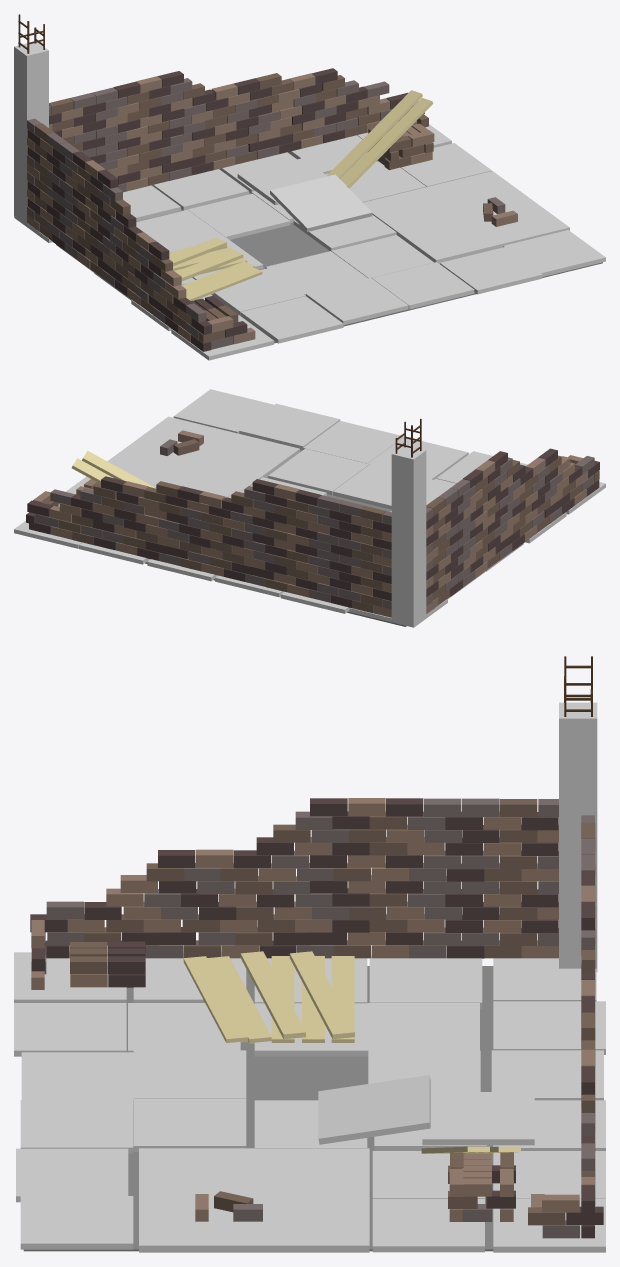
The model's file is construcc.fbx.
3 renders of one model, top to bottom at view 1: azimuth 30°, elevation 25°; view 2: azimuth 150°, elevation 25°; view 3: azimuth 270°, elevation 25°, orthographic. The views are drawn at different scales.
Visible parts, largest first — view 1: polySurface184; view 2: polySurface184; view 3: polySurface184.
Part boxes in pixels (<box>): polySurface184: <box>14,14,605,360</box>; polySurface184: <box>14,389,605,627</box>; polySurface184: <box>14,656,605,1252</box>.
Size of the model in its own units: 4.44 by 2.16 by 3.78.
